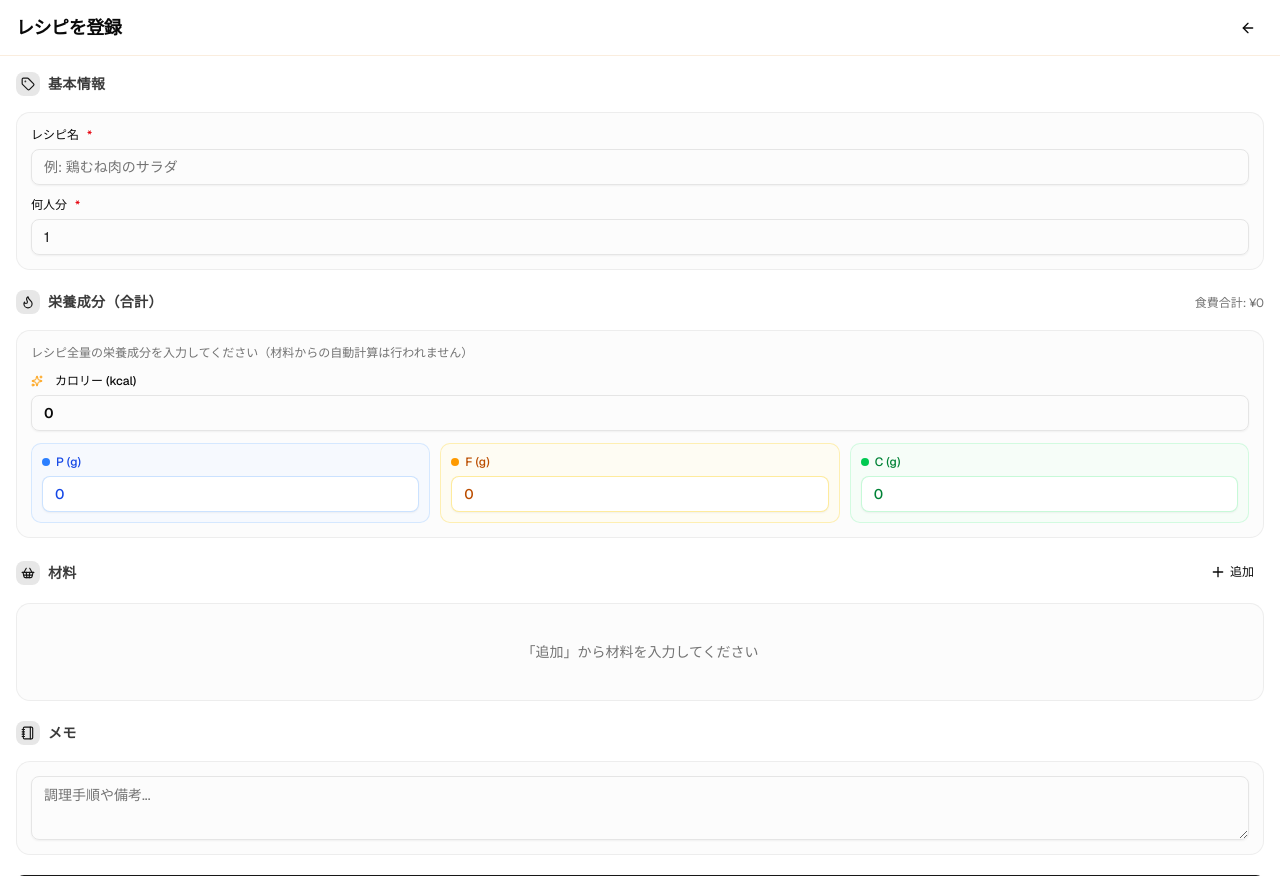
Scenario: RecipeFormView (S-05 レシピ登録/編集) › 新規 › 02 バリデーション: 0人分では保存しない
The image size is (1280, 876).
In the field labelled "レシピ名 *": (640, 167) [31, 149, 1249, 185], type "カレー"
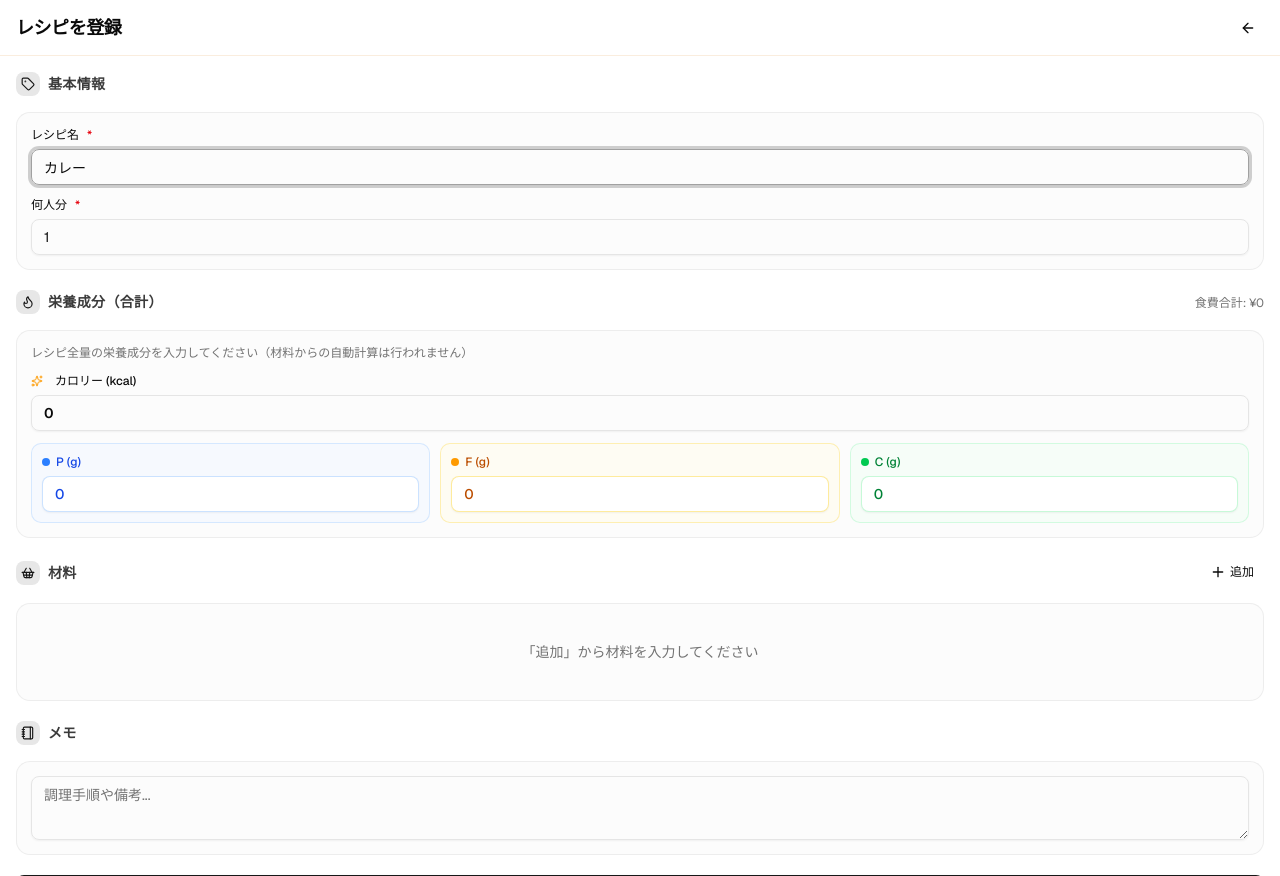
Replace the text in the number field labelled "何人分 *" with "0": (640, 237) [31, 219, 1249, 255]
(page scrolled)
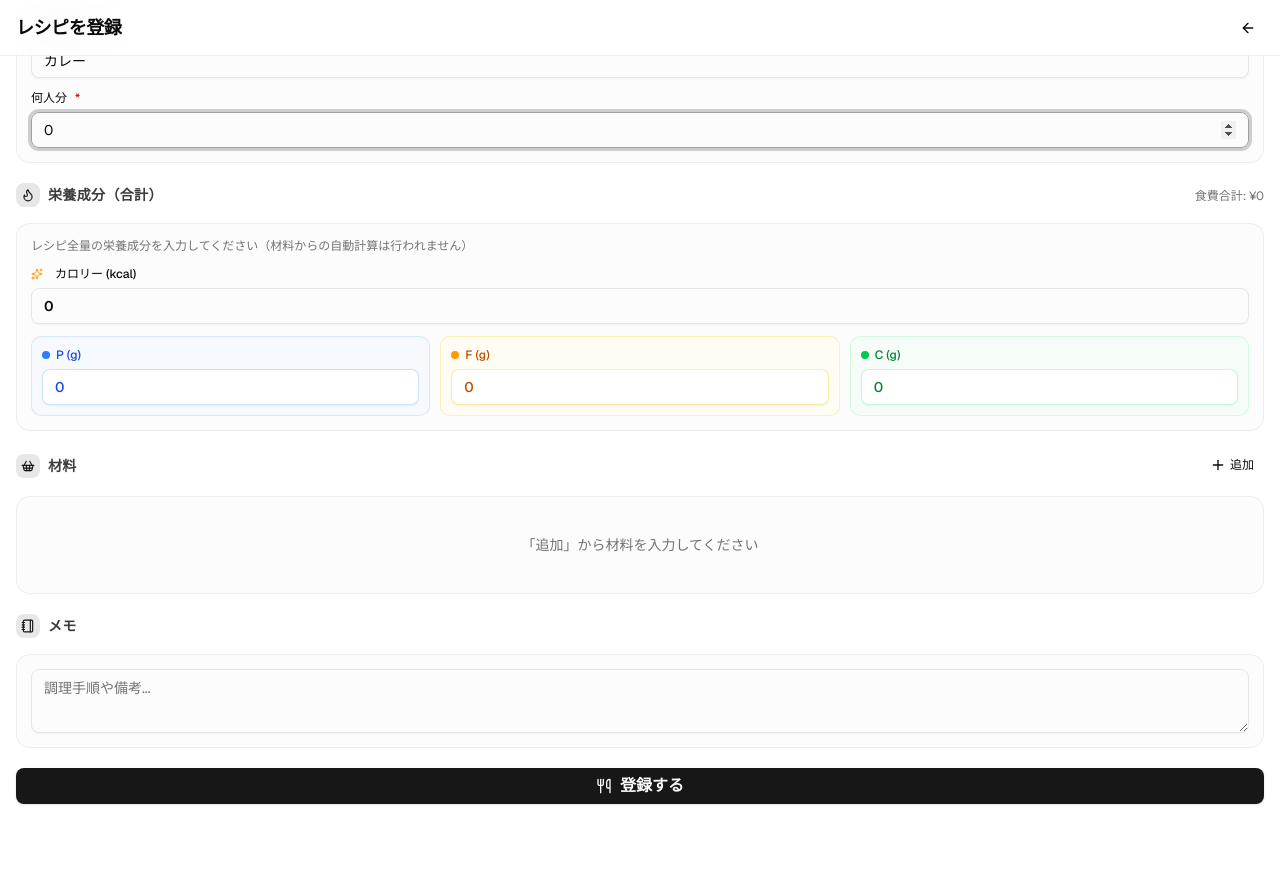
Click the button "登録する": (640, 786) [16, 768, 1264, 804]
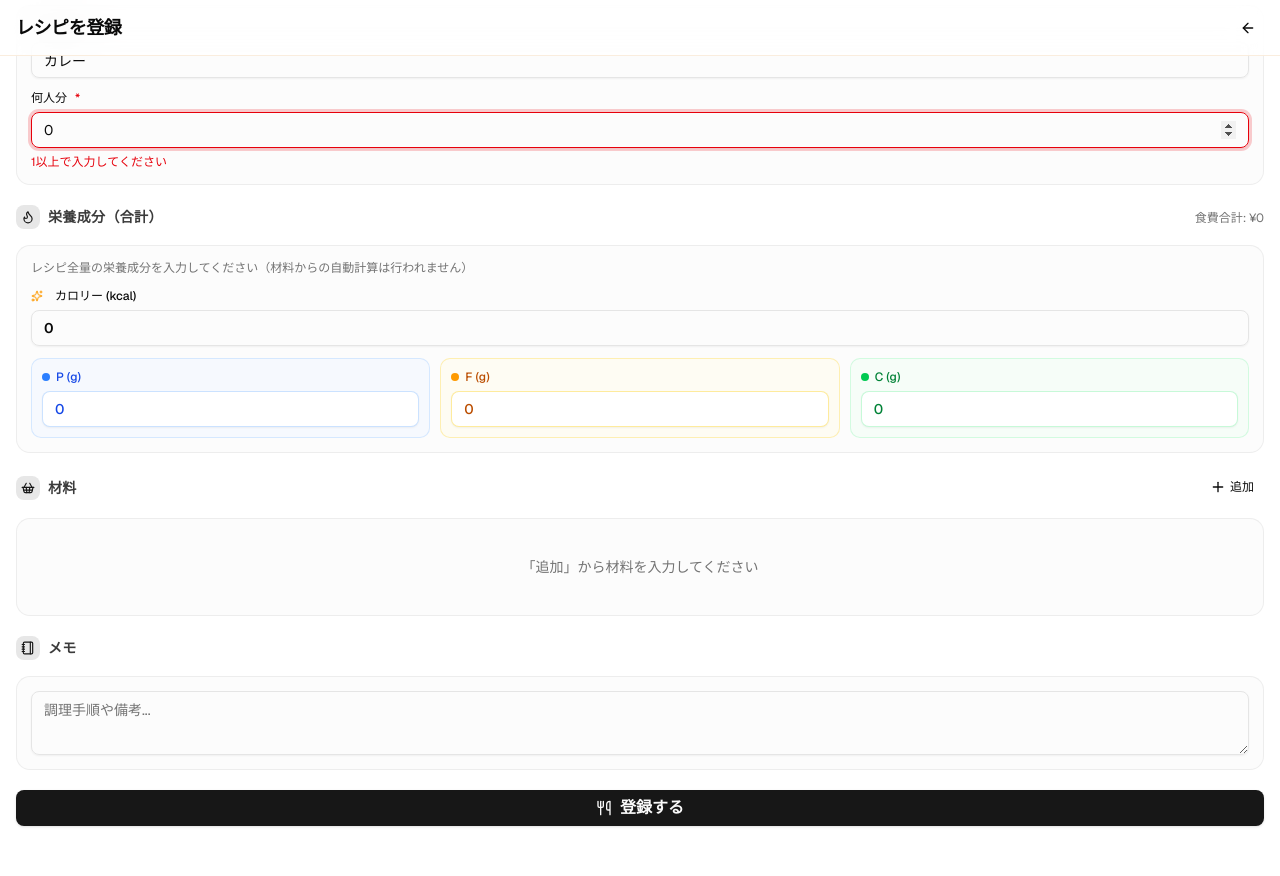
Check: the text "1以上で入力してください" is shown, box [31, 154, 167, 170]
